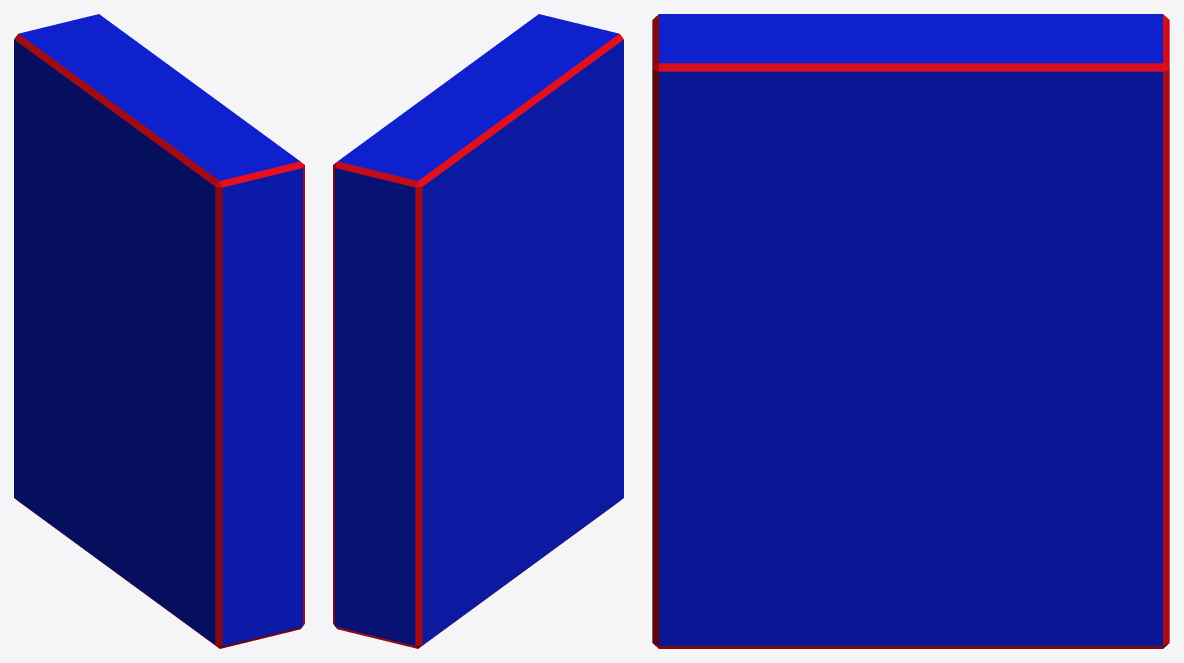
The model's file is L5_Door_4U.fbx.
The picture shows the model from 3 angles, left to right: view 1: azimuth 30°, elevation 25°; view 2: azimuth 150°, elevation 25°; view 3: azimuth 270°, elevation 25°; orthographic projection. The views are drawn at different scales.
Visible parts, largest first — view 1: L5_Door_4U; view 2: L5_Door_4U; view 3: L5_Door_4U.
Boxes of the visible parts, left/top/right/bottom form: L5_Door_4U: left=14, top=14, right=304, bottom=648; L5_Door_4U: left=333, top=14, right=623, bottom=648; L5_Door_4U: left=652, top=14, right=1169, bottom=648.
Size of the model in its own units: 100 by 500 by 400.
